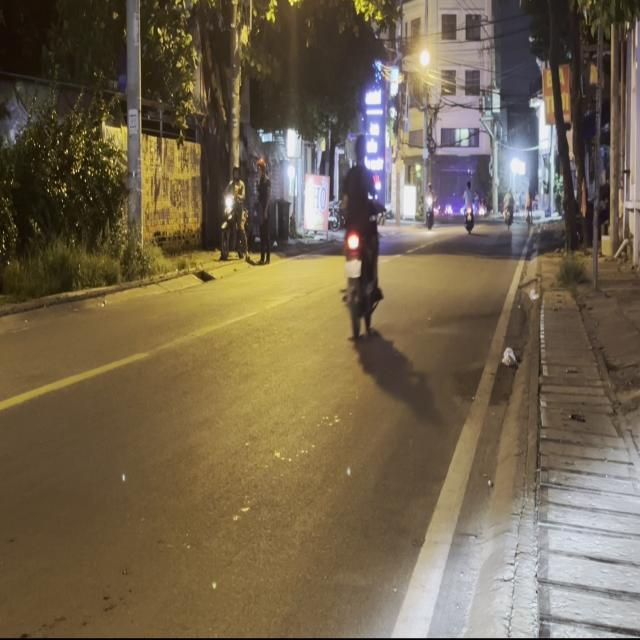licenseplate: (337, 132, 384, 336)
motorcyclist: (350, 133, 367, 164)
nohelmet: (345, 258, 360, 276)
